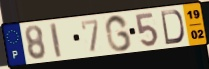5: (134, 11, 161, 48)
7: (80, 18, 101, 54)
8: (24, 24, 48, 61)
D: (159, 9, 186, 46)
G: (104, 13, 133, 53)
I: (49, 21, 64, 59)
